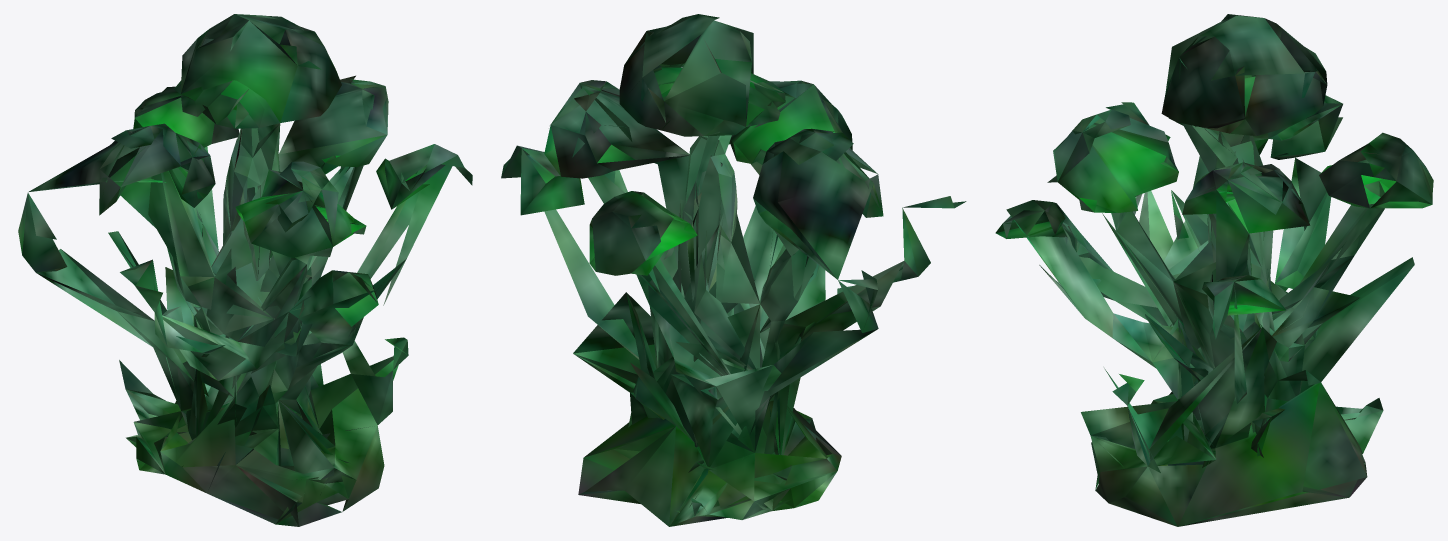
The model's file is alien_fungus_1865859791_lod0m.glb.
3 views of the same model, side by side, from view 1: azimuth 30°, elevation 25°; view 2: azimuth 150°, elevation 25°; view 3: azimuth 270°, elevation 25° (orthographic). The views are drawn at different scales.
Bounding box in the file's own units: 2.24 × 2.4 × 2.03.
Materials: 1 (1 with a texture image).
